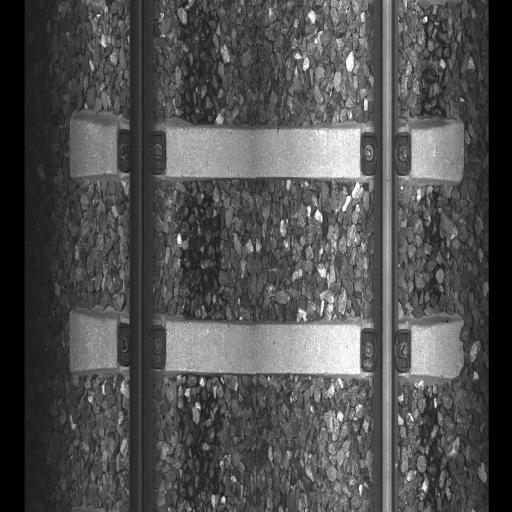sleeper: (67, 305, 464, 390), (68, 114, 464, 190)
